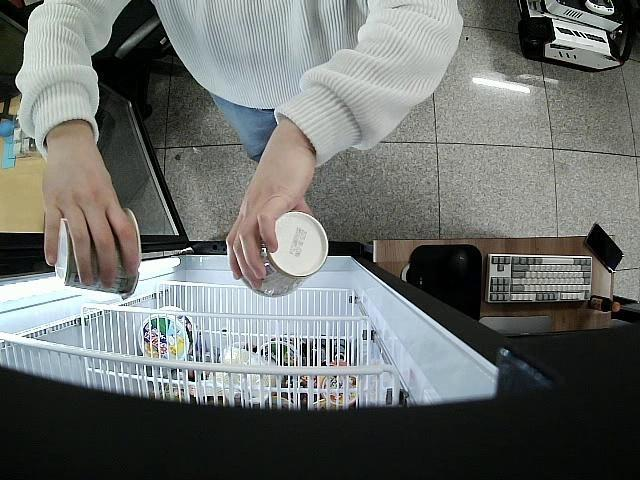04_chapagetti_S: (56, 209, 142, 302), (238, 212, 327, 298)
